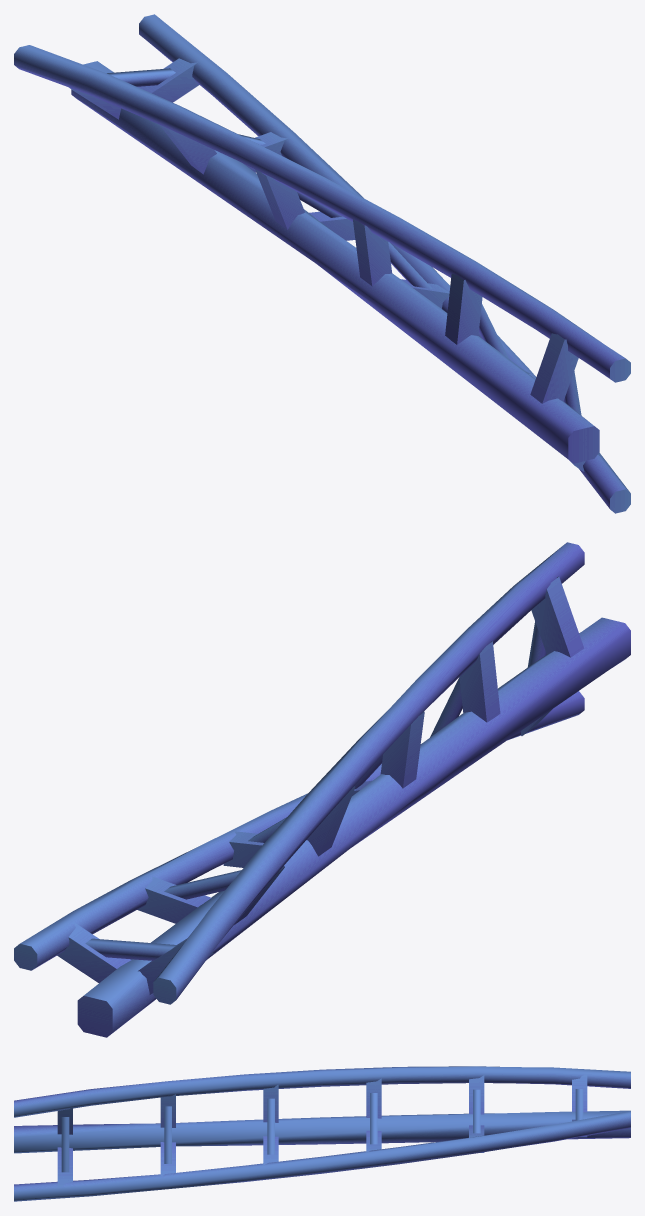
Rendered from coaster-steel-straight-skew-left-side.glb.
3 views of the same model, one above another, from view 1: azimuth 30°, elevation 25°; view 2: azimuth 150°, elevation 25°; view 3: azimuth 270°, elevation 25° (orthographic). The views are drawn at different scales.
Visible parts, largest first — view 1: coaster-steel-straight-skew-left-side; view 2: coaster-steel-straight-skew-left-side; view 3: coaster-steel-straight-skew-left-side.
Boxes of the visible parts, bbox=[...] form: coaster-steel-straight-skew-left-side: bbox=[14, 14, 630, 513]; coaster-steel-straight-skew-left-side: bbox=[14, 542, 630, 1037]; coaster-steel-straight-skew-left-side: bbox=[14, 1066, 630, 1201].
Bounding box in the file's own units: 2.38 × 2.38 × 12.
Materials: 1 (1 with a texture image).
